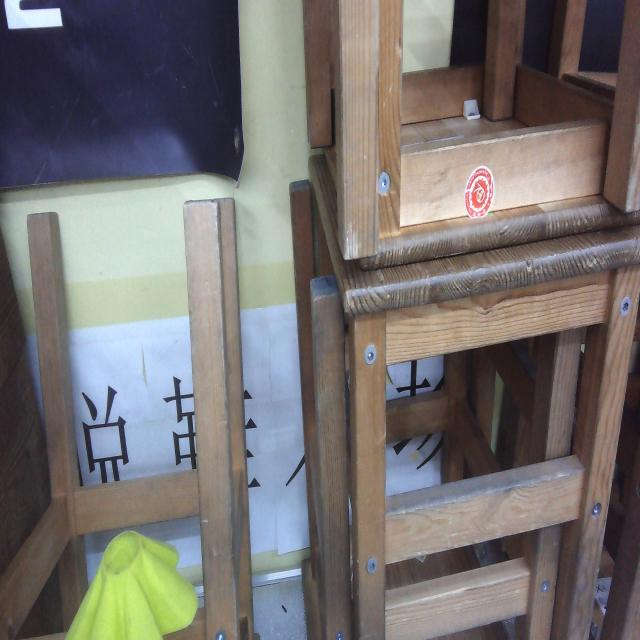Yellow-Stake-Head: (65, 530, 198, 640)
